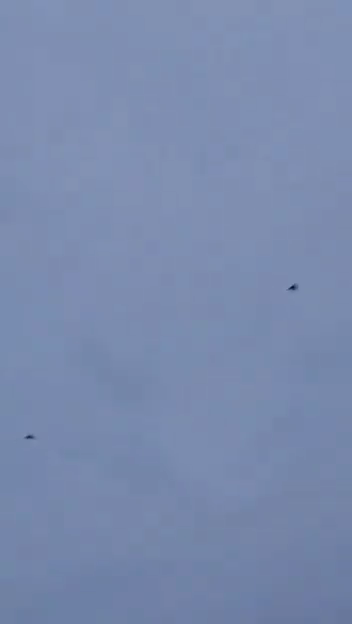shahed: (24, 431, 37, 442), (286, 283, 299, 292)
